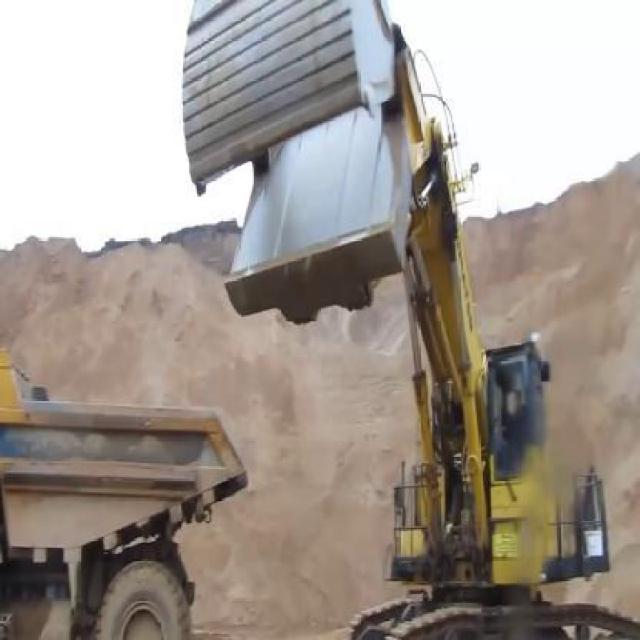dump_truck: (0, 346, 249, 640)
excavator: (181, 1, 639, 639)
